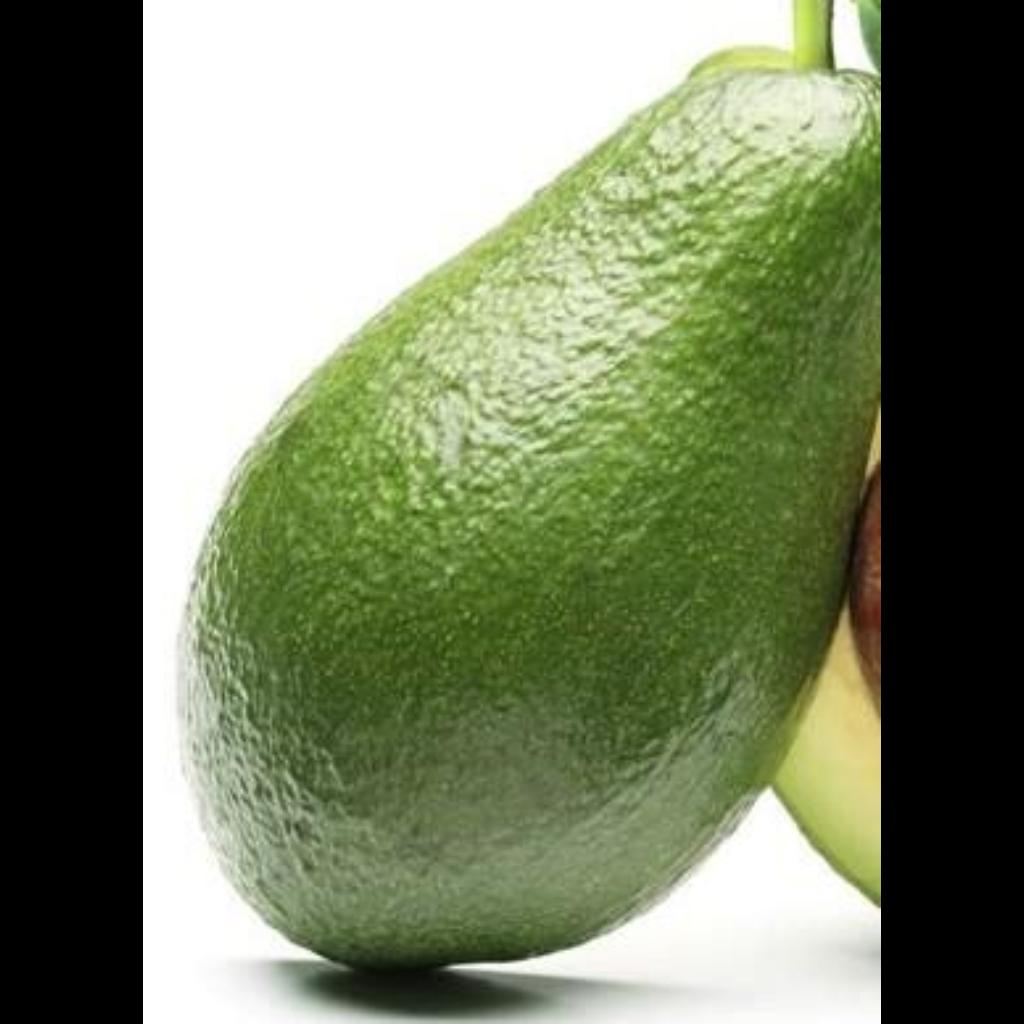fruto_sano: (185, 9, 882, 991)
